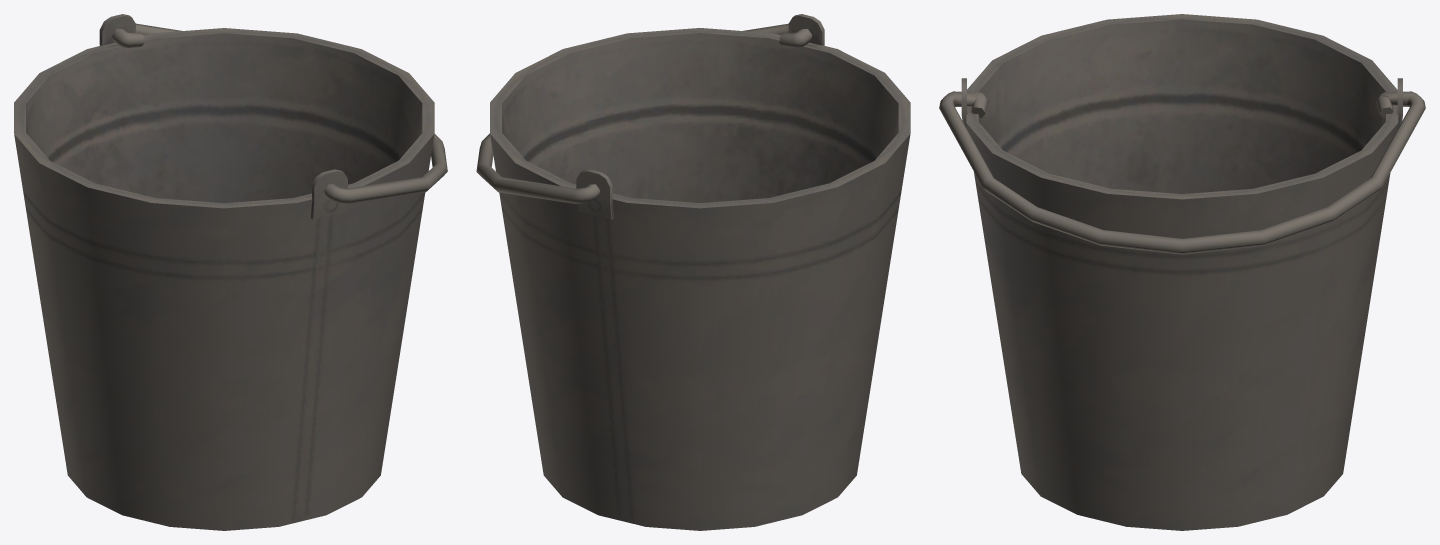
The model's file is SM_bucket_01.glb.
3 views of the same model, side by side, from view 1: azimuth 30°, elevation 25°; view 2: azimuth 150°, elevation 25°; view 3: azimuth 270°, elevation 25° (orthographic). The views are drawn at different scales.
Parts seen in each view (by area): view 1: SM_bucket_01; view 2: SM_bucket_01; view 3: SM_bucket_01.
Part boxes in pixels (x1=…): SM_bucket_01: x1=14, y1=14, x2=447, y2=530; SM_bucket_01: x1=476, y1=14, x2=910, y2=530; SM_bucket_01: x1=939, y1=14, x2=1425, y2=530.
Bounding box in the file's own units: 0.4739 × 0.4447 × 0.5162.
Materials: 1 (1 with a texture image).
